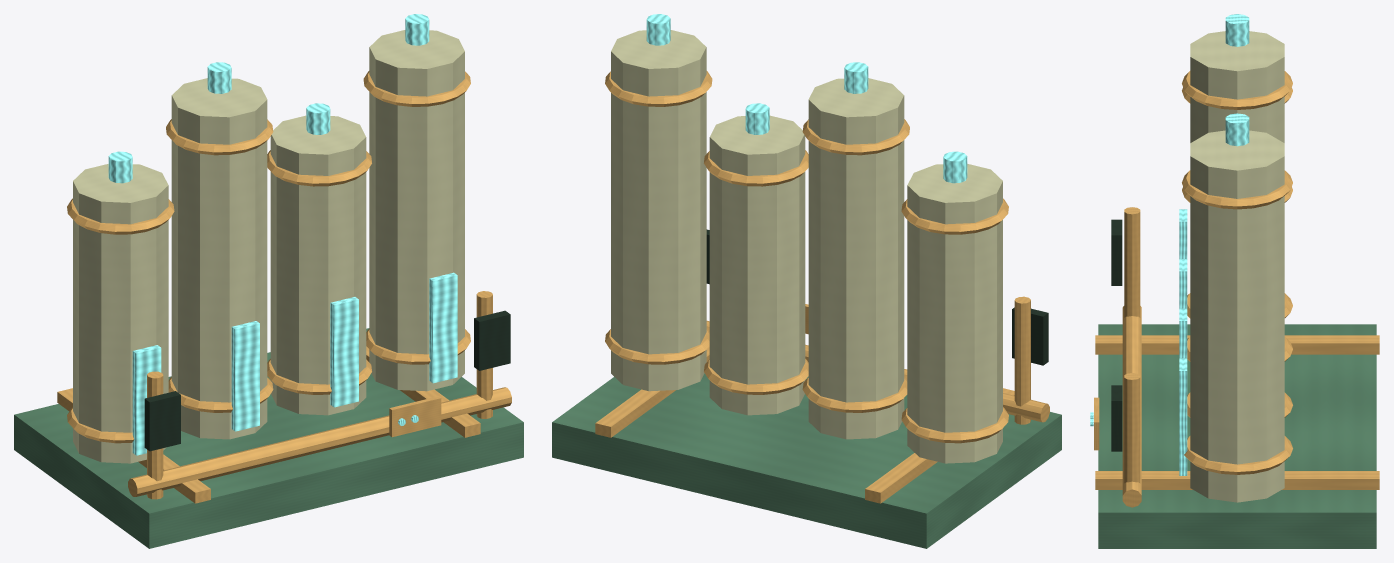
The model's file is atlas100-s002-a01.glb.
The picture shows the model from 3 angles, left to right: view 1: azimuth 30°, elevation 25°; view 2: azimuth 150°, elevation 25°; view 3: azimuth 270°, elevation 25°; orthographic projection. The views are drawn at different scales.
Visible parts, largest first — view 1: atlas100-s002-a01:part-000, atlas100-s002-a01:part-018, atlas100-s002-a01:part-008, atlas100-s002-a01:part-013, atlas100-s002-a01:part-003, atlas100-s002-a01:part-027, atlas100-s002-a01:part-012, atlas100-s002-a01:part-017, atlas100-s002-a01:part-022, atlas100-s002-a01:part-024, atlas100-s002-a01:part-026, atlas100-s002-a01:part-007 (+17 smaller); view 2: atlas100-s002-a01:part-000, atlas100-s002-a01:part-008, atlas100-s002-a01:part-018, atlas100-s002-a01:part-013, atlas100-s002-a01:part-003, atlas100-s002-a01:part-023, atlas100-s002-a01:part-002, atlas100-s002-a01:part-001, atlas100-s002-a01:part-004, atlas100-s002-a01:part-010, atlas100-s002-a01:part-005, atlas100-s002-a01:part-020 (+10 smaller); view 3: atlas100-s002-a01:part-000, atlas100-s002-a01:part-018, atlas100-s002-a01:part-008, atlas100-s002-a01:part-002, atlas100-s002-a01:part-001, atlas100-s002-a01:part-027, atlas100-s002-a01:part-023, atlas100-s002-a01:part-025, atlas100-s002-a01:part-020, atlas100-s002-a01:part-010, atlas100-s002-a01:part-019, atlas100-s002-a01:part-022 (+7 smaller).
Boxes of the visible parts, x1=… form: atlas100-s002-a01:part-000: x1=14, y1=328, x2=523, y2=548; atlas100-s002-a01:part-018: x1=369, y1=30, x2=464, y2=391; atlas100-s002-a01:part-008: x1=171, y1=78, x2=267, y2=439; atlas100-s002-a01:part-013: x1=270, y1=115, x2=366, y2=415; atlas100-s002-a01:part-003: x1=73, y1=164, x2=168, y2=463; atlas100-s002-a01:part-027: x1=128, y1=387, x2=511, y2=496; atlas100-s002-a01:part-012: x1=231, y1=321, x2=259, y2=431; atlas100-s002-a01:part-017: x1=330, y1=297, x2=358, y2=407; atlas100-s002-a01:part-022: x1=429, y1=272, x2=457, y2=383; atlas100-s002-a01:part-024: x1=144, y1=391, x2=180, y2=451; atlas100-s002-a01:part-026: x1=474, y1=310, x2=510, y2=370; atlas100-s002-a01:part-007: x1=132, y1=345, x2=161, y2=455; atlas100-s002-a01:part-000: x1=552, y1=373, x2=1061, y2=548; atlas100-s002-a01:part-008: x1=808, y1=78, x2=904, y2=439; atlas100-s002-a01:part-018: x1=611, y1=30, x2=706, y2=391; atlas100-s002-a01:part-013: x1=709, y1=115, x2=805, y2=415; atlas100-s002-a01:part-003: x1=907, y1=164, x2=1002, y2=463; atlas100-s002-a01:part-023: x1=1014, y1=296, x2=1030, y2=424; atlas100-s002-a01:part-002: x1=595, y1=346, x2=709, y2=437; atlas100-s002-a01:part-001: x1=865, y1=388, x2=1014, y2=503; atlas100-s002-a01:part-004: x1=901, y1=407, x2=1008, y2=443; atlas100-s002-a01:part-010: x1=802, y1=119, x2=909, y2=155; atlas100-s002-a01:part-005: x1=901, y1=198, x2=1008, y2=234; atlas100-s002-a01:part-020: x1=605, y1=71, x2=712, y2=106; atlas100-s002-a01:part-000: x1=1098, y1=324, x2=1376, y2=548; atlas100-s002-a01:part-018: x1=1190, y1=130, x2=1284, y2=502; atlas100-s002-a01:part-008: x1=1190, y1=31, x2=1284, y2=142; atlas100-s002-a01:part-002: x1=1095, y1=471, x2=1379, y2=489; atlas100-s002-a01:part-001: x1=1095, y1=335, x2=1379, y2=354; atlas100-s002-a01:part-027: x1=1122, y1=306, x2=1141, y2=507; atlas100-s002-a01:part-023: x1=1124, y1=207, x2=1140, y2=317; atlas100-s002-a01:part-025: x1=1124, y1=373, x2=1140, y2=483; atlas100-s002-a01:part-020: x1=1182, y1=170, x2=1292, y2=209; atlas100-s002-a01:part-010: x1=1182, y1=71, x2=1292, y2=109; atlas100-s002-a01:part-019: x1=1184, y1=436, x2=1292, y2=474; atlas100-s002-a01:part-022: x1=1179, y1=358, x2=1187, y2=475.
Bounding box in the file's own units: 3 × 2.93 × 1.87.
Materials: 5 (5 with a texture image).
